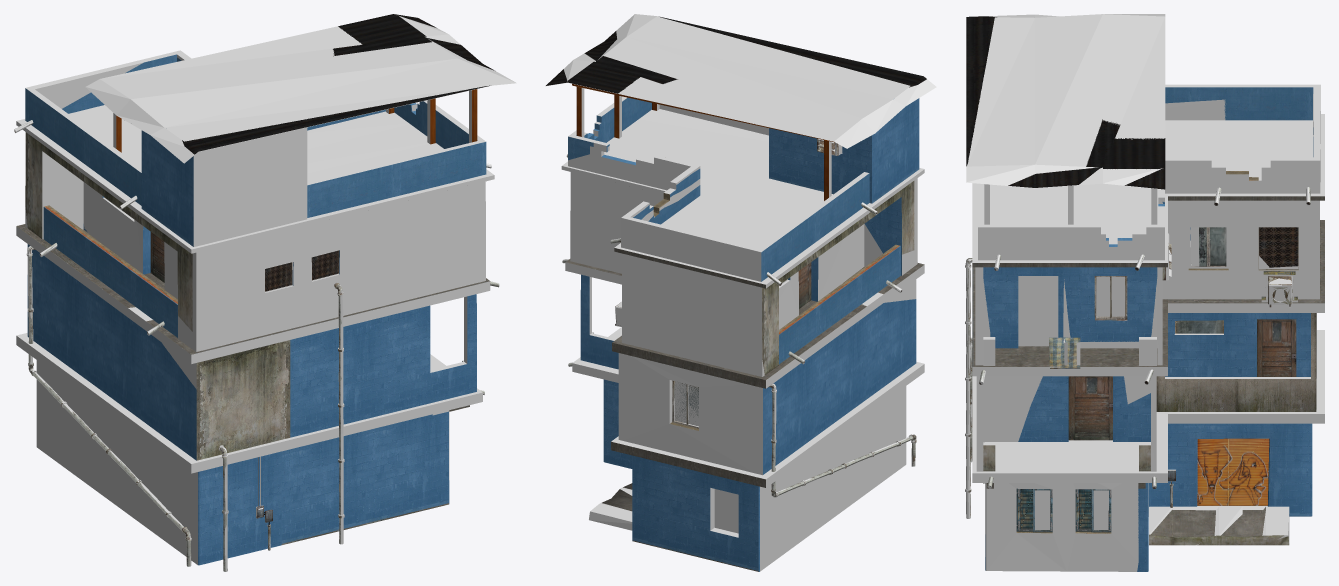
File: hei_prop_heist_pic_05.fbx
The picture shows the model from 3 angles, left to right: view 1: azimuth 30°, elevation 25°; view 2: azimuth 150°, elevation 25°; view 3: azimuth 270°, elevation 25°; orthographic projection. The views are drawn at different scales.
Visible parts, largest first — view 1: UTM_Geometry, Object_LOD0; view 2: UTM_Geometry, Object_LOD0; view 3: UTM_Geometry, Object_LOD0.
Boxes of the visible parts, x1=… form: UTM_Geometry: x1=14, y1=15, x2=516, y2=571; Object_LOD0: x1=14, y1=14, x2=499, y2=571; UTM_Geometry: x1=545, y1=14, x2=936, y2=571; Object_LOD0: x1=546, y1=16, x2=926, y2=571; UTM_Geometry: x1=965, y1=14, x2=1324, y2=571; Object_LOD0: x1=965, y1=16, x2=1324, y2=571.
Bounding box in the file's own units: 1096 × 1356 × 1020.
